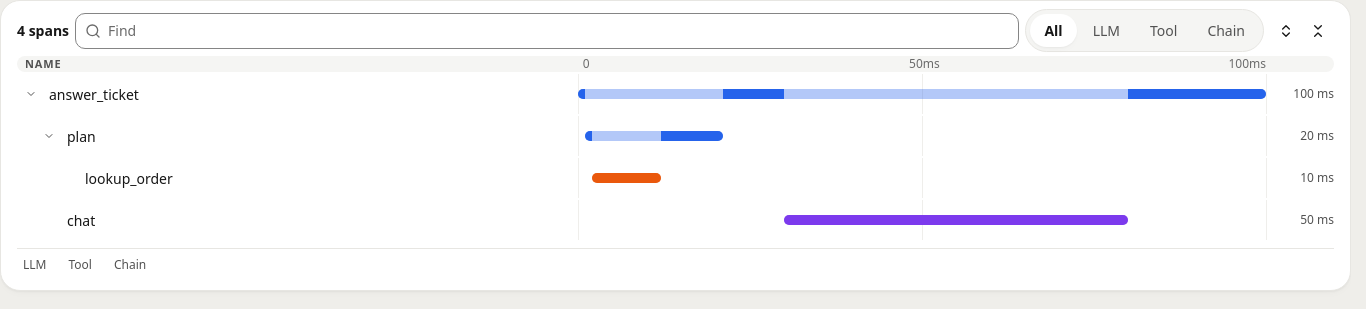
Scenario: SpanWaterfall toolbar › finds spans by name and loaded output, and Enter steps through the matches
Type "order" into the search field named "Find span" at (547, 30), box [75, 12, 1019, 48]
Then press Enter
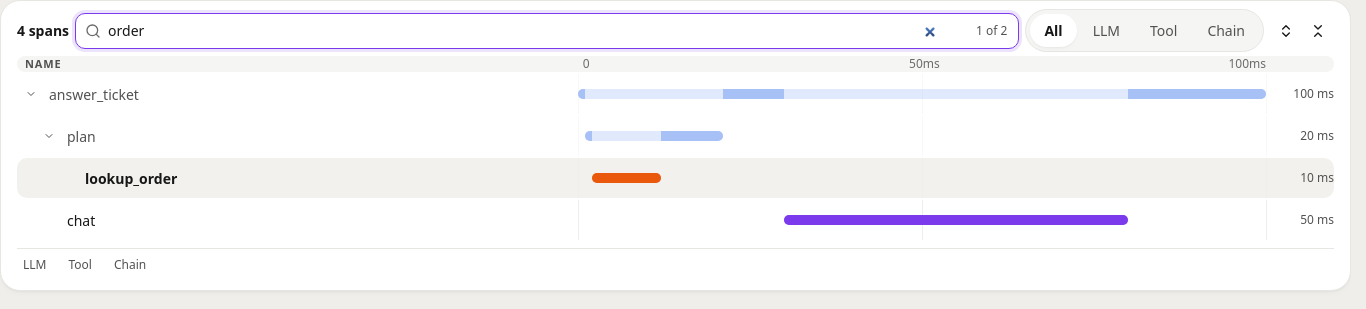
Check: the message reads "1 of 2", box [976, 21, 1008, 38]
Press Enter
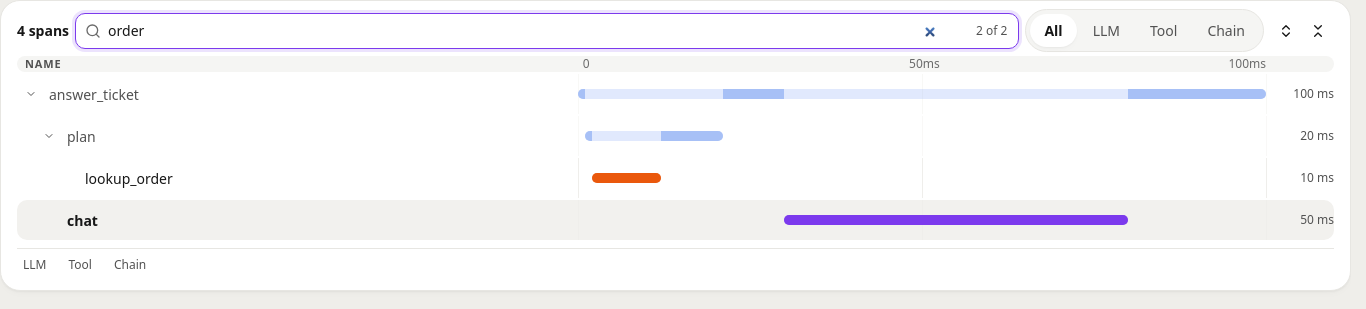
Check: the message reads "2 of 2", box [976, 21, 1008, 38]
